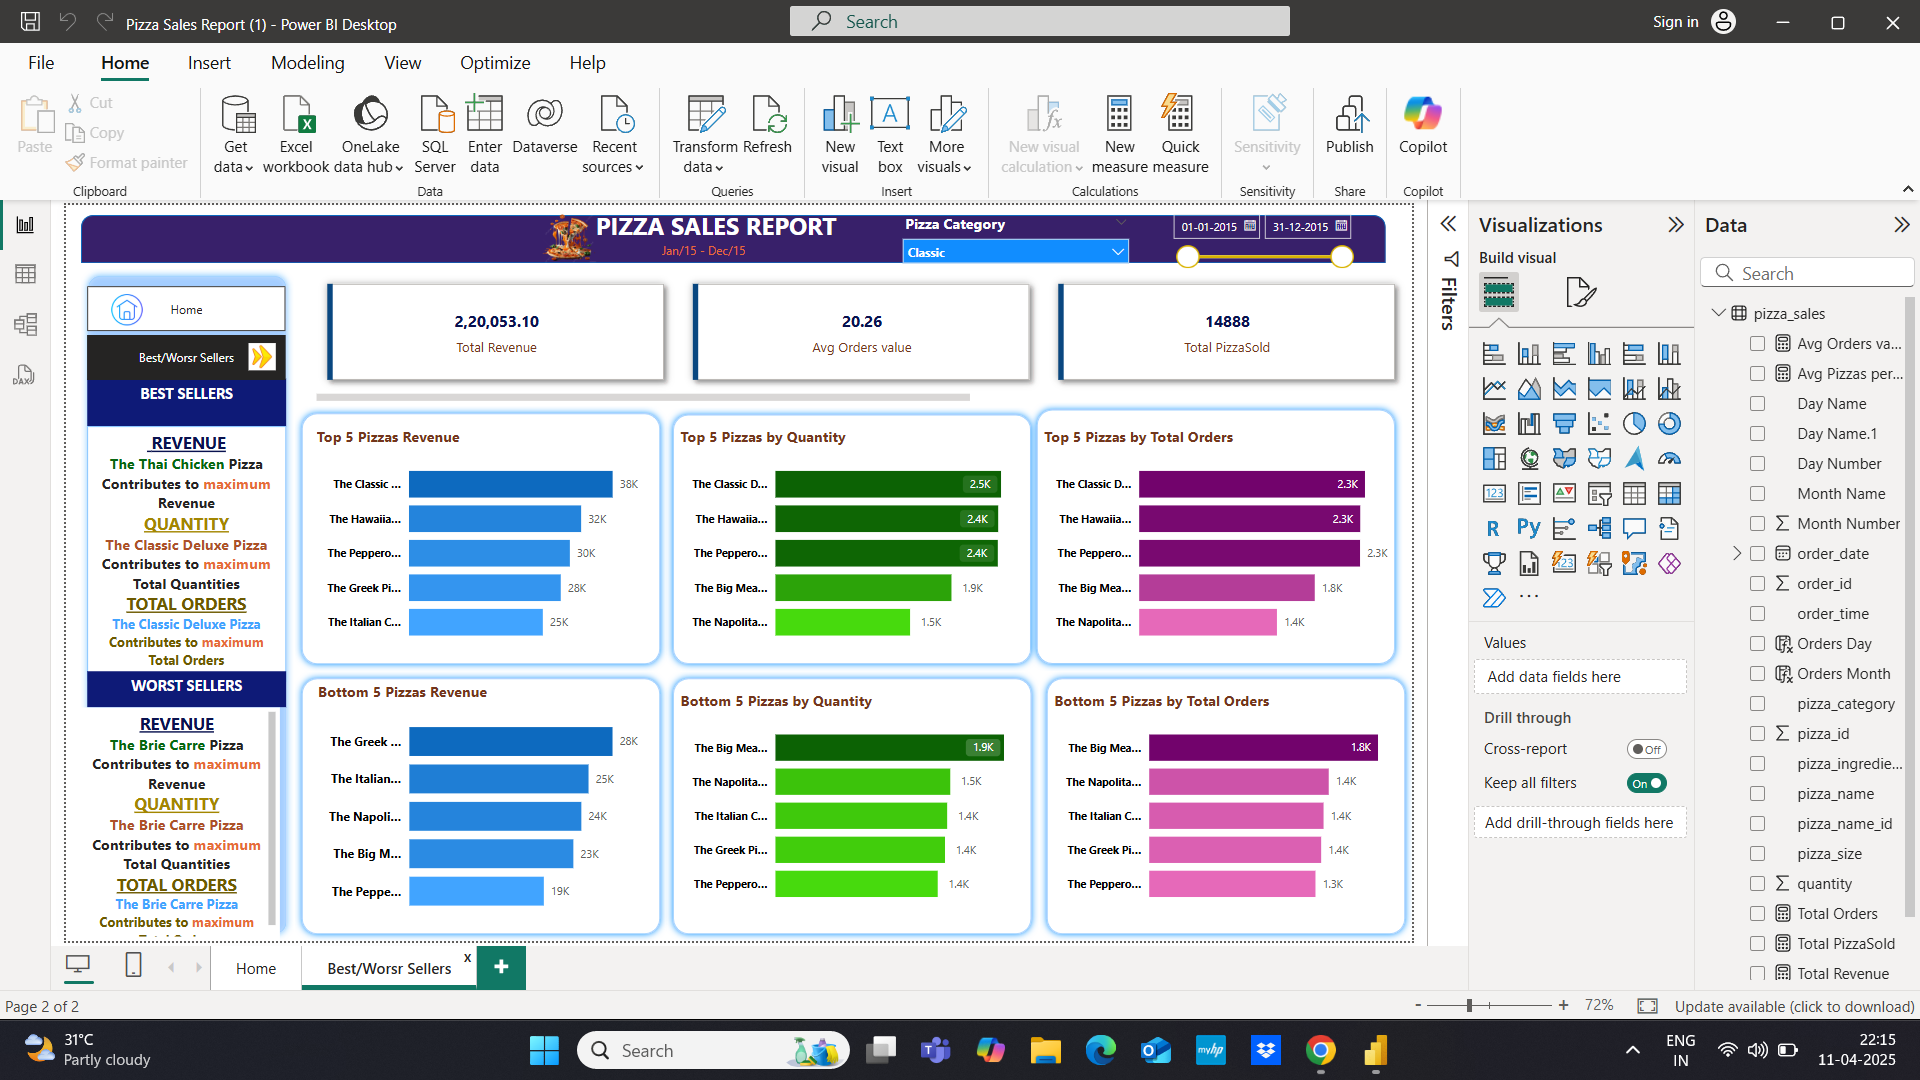

Layout of this report page (visuals, bound fields, positions):
{"tool":"powerbi","page":{"name":"Best/Worsr Sellers","canvas":[1500,820],"ordinal":1},"visuals":[{"type":"cardVisual","fields":{"Data":["pizza_sales.Total Revenue","pizza_sales.Avg Orders value","pizza_sales.Total PizzaSold","pizza_sales.Total Orders","pizza_sales.Avg Pizzas per Orders"]},"box":[274.4,71,1225.5,154.6],"z":0},{"type":"shape","box":[16.2,11.2,1453.8,53.8],"z":1000},{"type":"textbox","box":[572.5,0,303.8,53.8],"z":2000},{"type":"textbox","box":[637.5,36.2,145,36.2],"z":3000},{"type":"image","box":[517.5,1.2,86.2,71.2],"z":4000},{"type":"shape","box":[254.9,224.2,415,295.2],"z":5000},{"type":"shape","box":[16.7,71,236.8,749.3],"z":6000},{"type":"textbox","box":[23.7,193.6,221.4,52.9],"z":7000},{"type":"textbox","box":[23.7,246.5,221.4,284.1],"z":8000},{"type":"textbox","box":[23.7,519.5,221.4,40.4],"z":9000},{"type":"textbox","box":[16.7,559.9,221.4,260.4],"z":10000},{"type":"slicer","fields":{"Values":["pizza_sales.pizza_category"]},"box":[922.5,3.8,272.5,63.8],"z":11000},{"type":"slicer","fields":{"Values":["pizza_sales.order_date"]},"box":[1221.2,0,221.2,90],"z":12000},{"type":"shape","box":[668.5,225.6,415,293.9],"z":13000},{"type":"shape","box":[1073.7,220,415,299.4],"z":14000},{"type":"shape","box":[254.9,519.5,415,300.8],"z":15000},{"type":"shape","box":[668.5,519.5,415,300.8],"z":16000},{"type":"shape","box":[1084.9,519.5,415,300.8],"z":17000},{"type":"barChart","title":"Top 5 Pizzas Revenue","fields":{"Category":["pizza_sales.pizza_name"],"Y":["pizza_sales.Total Revenue"]},"box":[274.4,246.5,378.8,254.9],"z":18000},{"type":"barChart","title":"Bottom 5 Pizzas Revenue","fields":{"Category":["pizza_sales.pizza_name"],"Y":["pizza_sales.Total Revenue"]},"box":[275.7,530.6,377.4,273],"z":19000},{"type":"barChart","title":"Top 5 Pizzas by Quantity","fields":{"Category":["pizza_sales.pizza_name"],"Y":["pizza_sales.Total PizzaSold"]},"box":[679.6,246.5,391.3,254.9],"z":20000},{"type":"barChart","title":"Bottom 5 Pizzas by Quantity","fields":{"Category":["pizza_sales.pizza_name"],"Y":["pizza_sales.Total PizzaSold"]},"box":[679.6,540.4,391.3,252.1],"z":21000},{"type":"barChart","title":"Top 5 Pizzas by Total Orders","fields":{"Category":["pizza_sales.pizza_name"],"Y":["pizza_sales.Total Orders"]},"box":[1084.9,246.5,392.7,254.9],"z":22000},{"type":"barChart","title":"Bottom 5 Pizzas by Total Orders","fields":{"Category":["pizza_sales.pizza_name"],"Y":["pizza_sales.Total Orders"]},"box":[1096,540.4,392.7,252.1],"z":23000},{"type":"pageNavigator","box":[24.3,144.3,221.4,50],"z":24000},{"type":"pageNavigator","box":[24.3,90,221.4,50],"z":25000},{"type":"image","box":[197.1,148.6,41.4,40],"z":26000},{"type":"image","box":[42.9,85.7,50,60],"z":27000}]}

Visuals, with their boxes on the page's 1500x820 design canvas (x1, y1, x2, y2). These are canvas units, not pixel positions in the 1920x1080 screenshot, which may show the page scaled, cropped or inside an application window:
cardVisual - pizza_sales.Total Revenue x pizza_sales.Avg Orders value: (274, 71, 1500, 226)
shape: (16, 11, 1470, 65)
textbox: (572, 0, 876, 54)
textbox: (638, 36, 782, 72)
image: (518, 1, 604, 72)
shape: (255, 224, 670, 519)
shape: (17, 71, 254, 820)
textbox: (24, 194, 245, 246)
textbox: (24, 246, 245, 531)
textbox: (24, 520, 245, 560)
textbox: (17, 560, 238, 820)
slicer - pizza_sales.pizza_category: (922, 4, 1195, 68)
slicer - pizza_sales.order_date: (1221, 0, 1442, 90)
shape: (668, 226, 1084, 520)
shape: (1074, 220, 1489, 519)
shape: (255, 520, 670, 820)
shape: (668, 520, 1084, 820)
shape: (1085, 520, 1500, 820)
"Top 5 Pizzas Revenue" barChart: (274, 246, 653, 501)
"Bottom 5 Pizzas Revenue" barChart: (276, 531, 653, 804)
"Top 5 Pizzas by Quantity" barChart: (680, 246, 1071, 501)
"Bottom 5 Pizzas by Quantity" barChart: (680, 540, 1071, 792)
"Top 5 Pizzas by Total Orders" barChart: (1085, 246, 1478, 501)
"Bottom 5 Pizzas by Total Orders" barChart: (1096, 540, 1489, 792)
pageNavigator: (24, 144, 246, 194)
pageNavigator: (24, 90, 246, 140)
image: (197, 149, 238, 189)
image: (43, 86, 93, 146)
